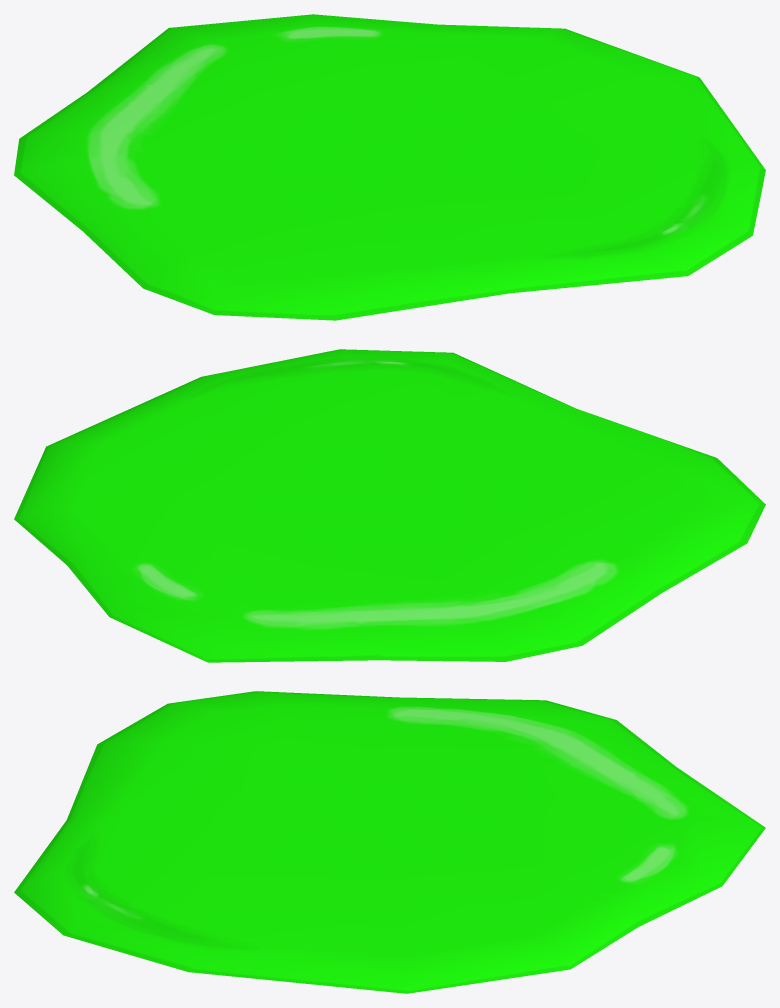
The model's file is kaihuku.fbx.
3 views of the same model, one above another, from view 1: azimuth 30°, elevation 25°; view 2: azimuth 150°, elevation 25°; view 3: azimuth 270°, elevation 25° (orthographic). The views are drawn at different scales.
Parts seen in each view (by area): view 1: kaihuku1; view 2: kaihuku1; view 3: kaihuku1.
Boxes of the visible parts, box(x1,y1,x2,y2) form: kaihuku1: box(14, 14, 765, 320); kaihuku1: box(14, 349, 765, 662); kaihuku1: box(14, 691, 765, 993).
Size of the model in its own units: 65.45 by 1.28 by 68.72.
1 material, 1 textured.
